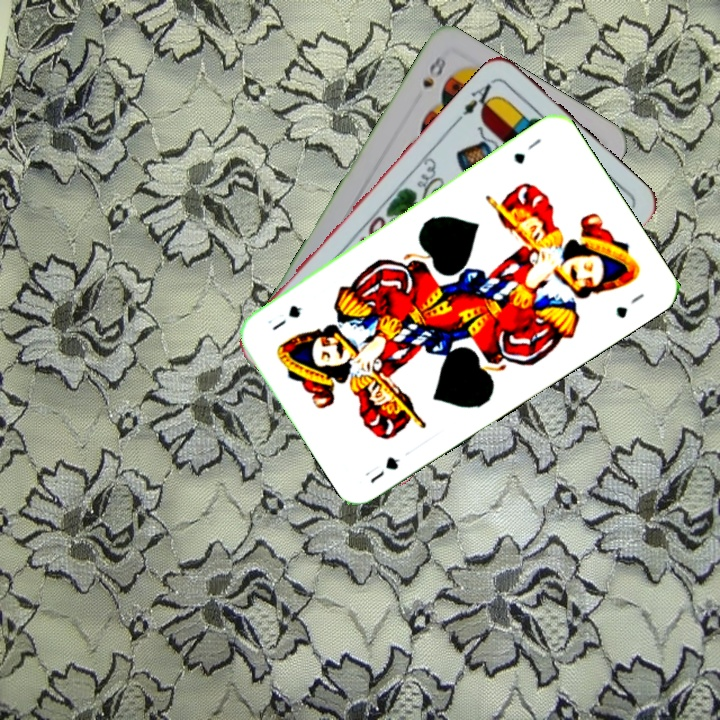EA: (453, 79, 500, 125)
GU: (366, 452, 402, 486), (509, 134, 544, 167)
S8: (418, 51, 449, 91)
